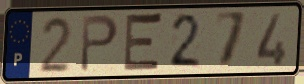2: (166, 11, 204, 72), (38, 15, 75, 75)
4: (255, 11, 289, 68)
7: (214, 10, 247, 71)
E: (121, 11, 165, 75)
P: (78, 13, 121, 74)
